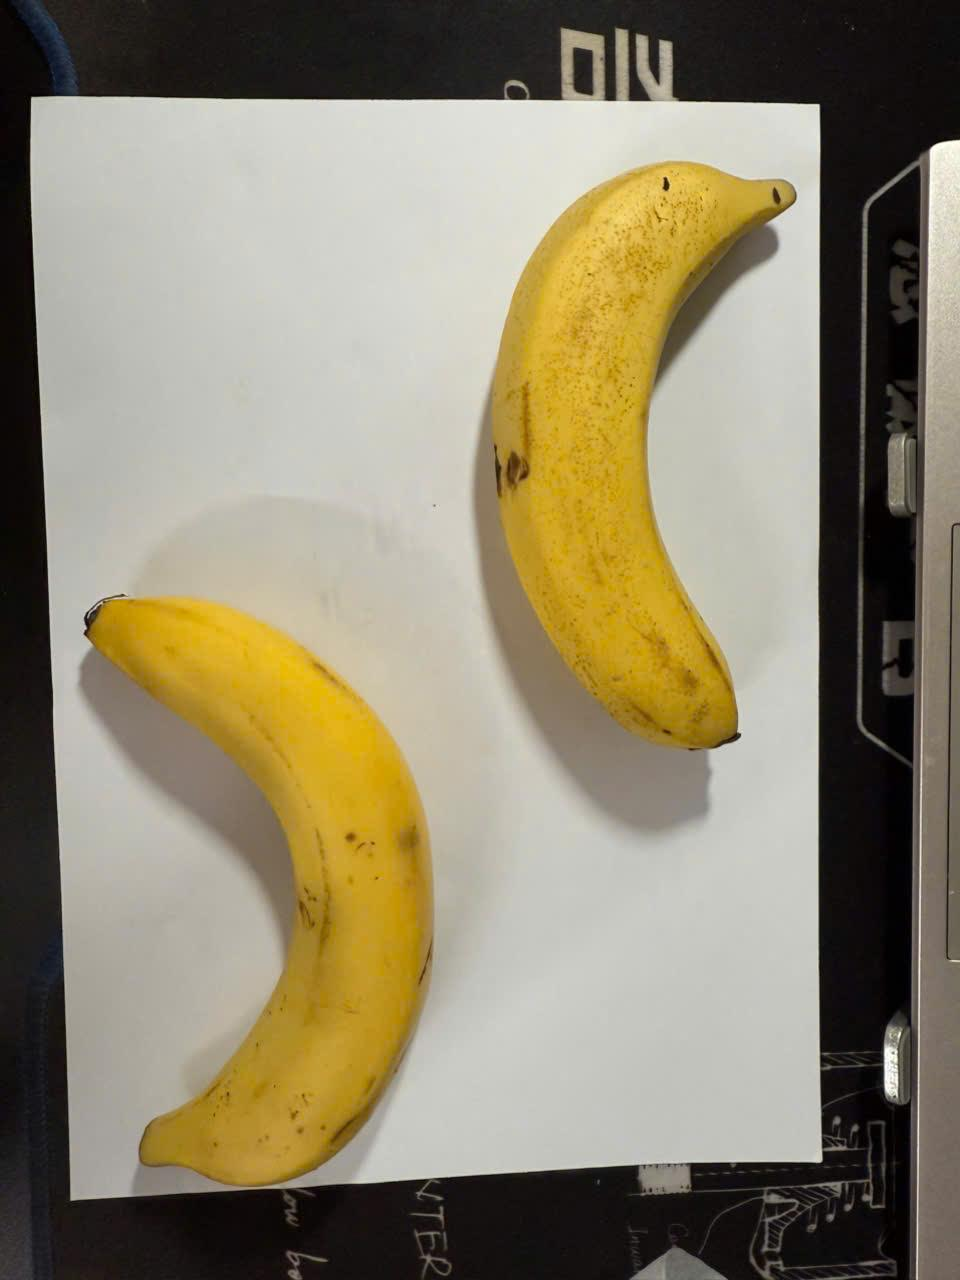banana: (73, 578, 456, 1196), (470, 148, 800, 758)
